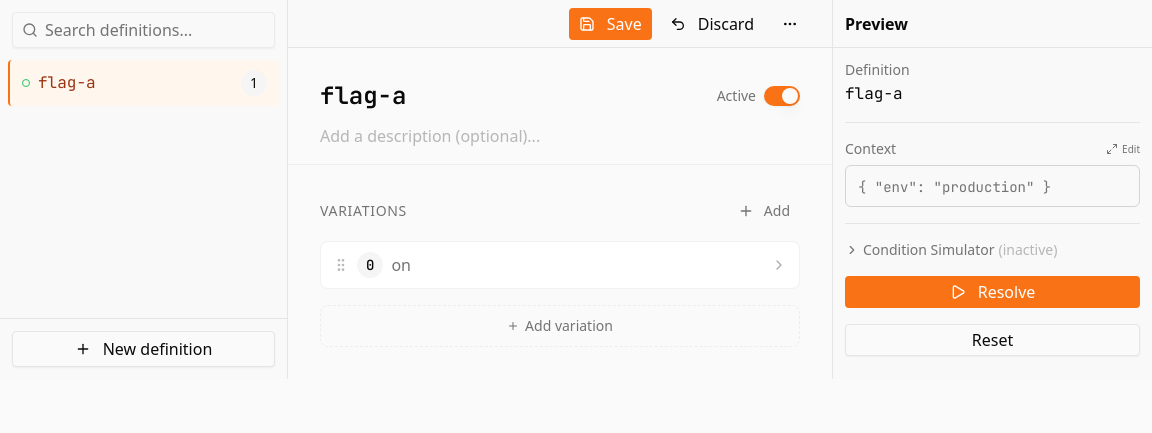
Test case: Configurator async action handling › swallows saveDefinition rejection via catch
Step 1. Click the button "Save" → [610, 24], box [569,8,652,40]
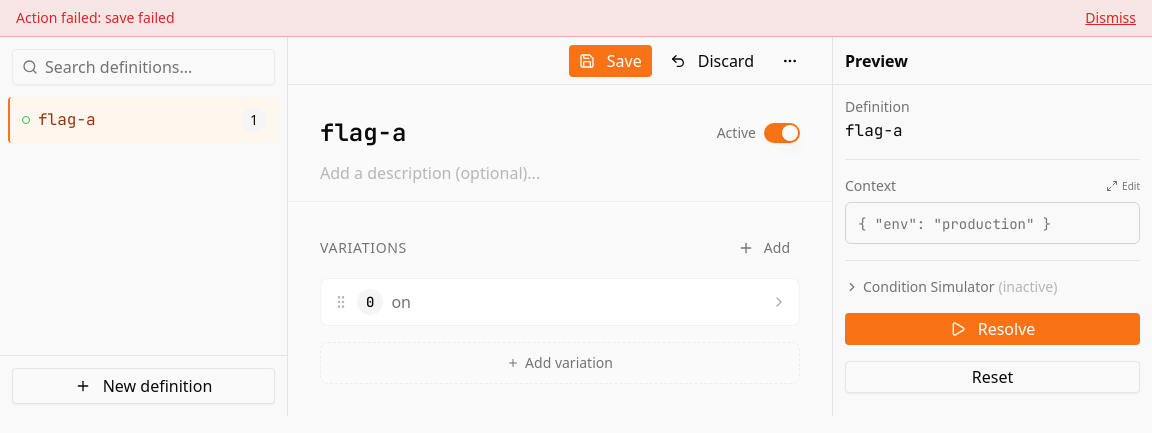
Result: the message "Action failed: save failed Dismiss" is shown at [0,0,1151,37]
